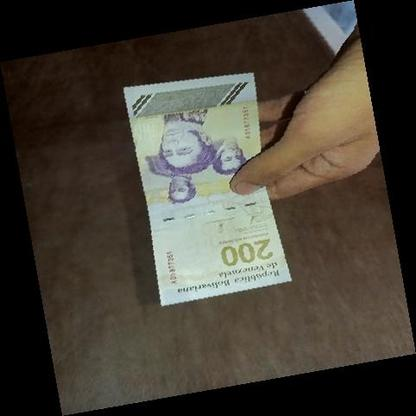two_hundred-front-vef: (121, 71, 292, 308)
